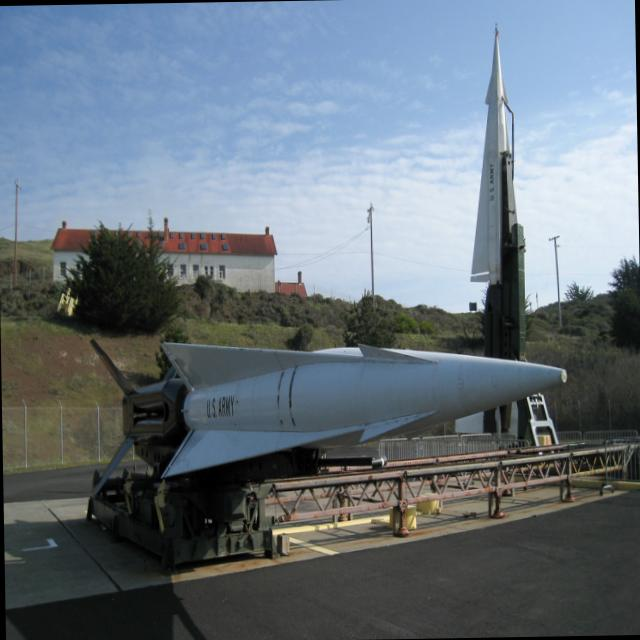rocket: (145, 324, 575, 506), (465, 17, 522, 291)
